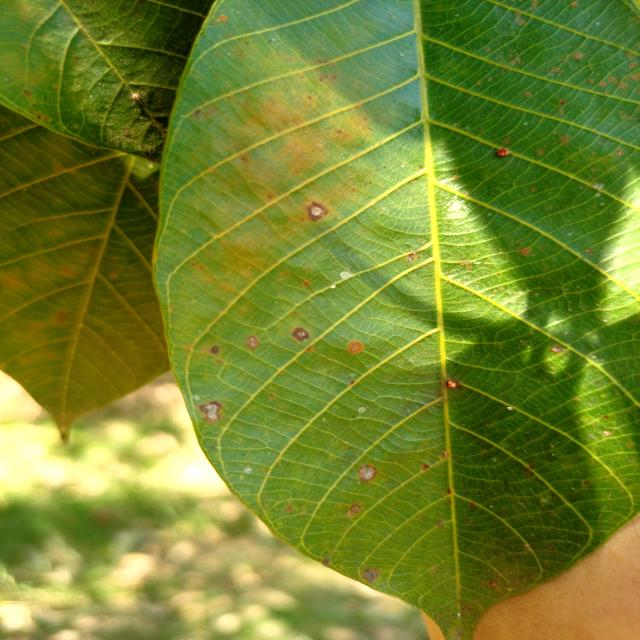Colletotrichum: (198, 400, 222, 423), (308, 202, 327, 221), (358, 465, 378, 482), (293, 327, 308, 342), (211, 345, 219, 354)
